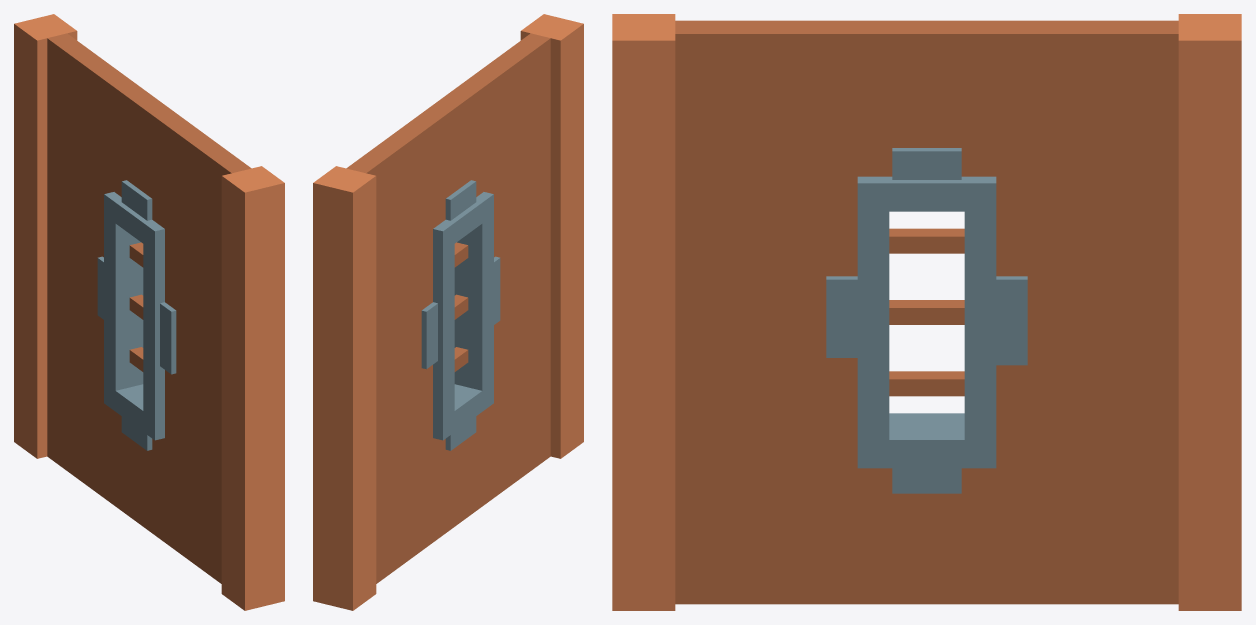
Rendered from wallWoodWindowStone.dae.
3 views of the same model, side by side, from view 1: azimuth 30°, elevation 25°; view 2: azimuth 150°, elevation 25°; view 3: azimuth 270°, elevation 25° (orthographic). The views are drawn at different scales.
Parts seen in each view (by area): view 1: wallWoodWindowStone; view 2: wallWoodWindowStone; view 3: wallWoodWindowStone.
Boxes of the visible parts, bbox=[...] form: wallWoodWindowStone: bbox=[14, 14, 284, 610]; wallWoodWindowStone: bbox=[313, 14, 583, 610]; wallWoodWindowStone: bbox=[612, 14, 1241, 610].
Size of the model in its own units: 0.1 by 1 by 1.
